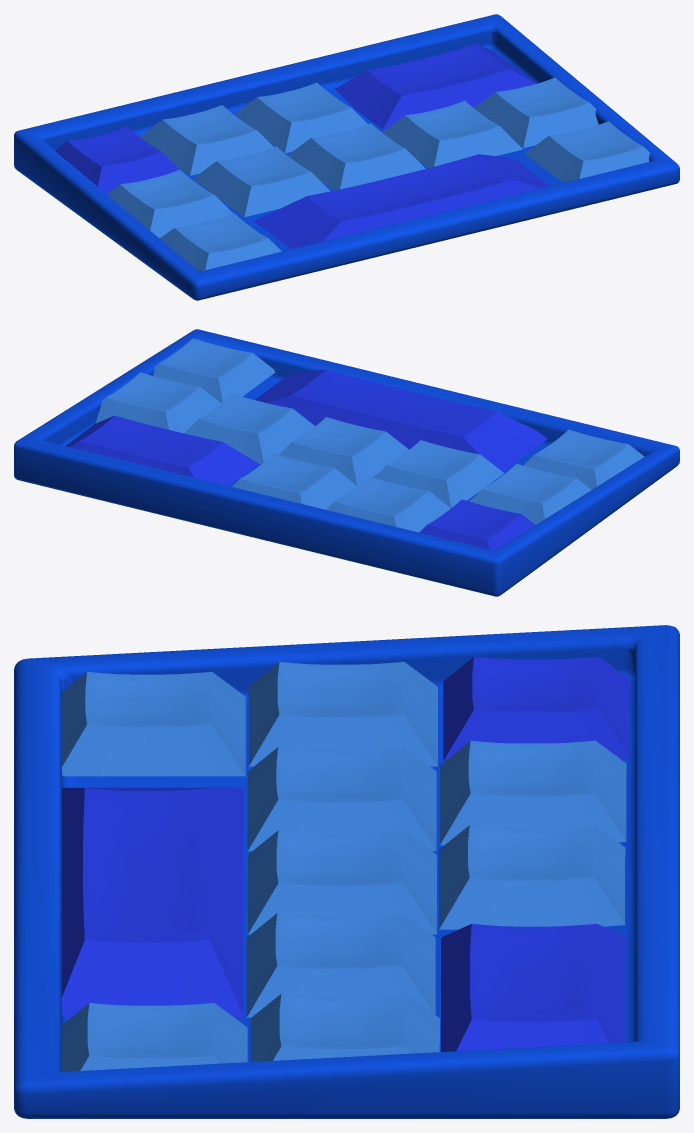
File: Puzzle1.fbx
3 views of the same model, one above another, from view 1: azimuth 30°, elevation 25°; view 2: azimuth 150°, elevation 25°; view 3: azimuth 270°, elevation 25° (orthographic). The views are drawn at different scales.
Parts seen in each view (by area): view 1: Plane, Plane.013, Plane.005, Plane.007, Plane.009, Plane.008, Plane.002, Plane.010, Plane.003, Plane.006, Plane.012, Plane.001 (+1 smaller); view 2: Plane, Plane.013, Plane.005, Plane.009, Plane.007, Plane.008, Plane.010, Plane.012, Plane.006, Plane.003, Plane.002, Plane.011 (+1 smaller); view 3: Plane, Plane.013, Plane.005, Plane.011, Plane.003, Plane.006, Plane.007, Plane.002, Plane.001, Plane.008, Plane.009, Plane.010 (+1 smaller).
Boxes of the visible parts, <box> form: Plane: <box>14,14,679,300</box>; Plane.013: <box>253,154,550,248</box>; Plane.005: <box>335,44,537,129</box>; Plane.007: <box>192,146,330,217</box>; Plane.009: <box>382,100,522,168</box>; Plane.008: <box>287,123,425,190</box>; Plane.002: <box>140,105,273,175</box>; Plane.010: <box>474,77,598,148</box>; Plane.003: <box>235,82,367,153</box>; Plane.006: <box>107,169,232,237</box>; Plane.012: <box>524,121,650,182</box>; Plane.001: <box>55,126,179,193</box>; Plane: <box>14,329,679,596</box>; Plane.013: <box>255,369,547,471</box>; Plane.005: <box>65,415,258,485</box>; Plane.009: <box>184,394,315,464</box>; Plane.007: <box>374,440,503,508</box>; Plane.008: <box>279,417,408,485</box>; Plane.010: <box>96,372,220,433</box>; Plane.012: <box>153,338,275,403</box>; Plane.006: <box>469,464,591,524</box>; Plane.003: <box>232,453,356,509</box>; Plane.002: <box>326,476,450,532</box>; Plane.011: <box>523,429,644,489</box>; Plane: <box>14,625,679,1118</box>; Plane.013: <box>61,787,243,1016</box>; Plane.005: <box>441,923,626,1051</box>; Plane.011: <box>61,671,245,776</box>; Plane.003: <box>439,825,625,929</box>; Plane.006: <box>248,662,437,766</box>; Plane.007: <box>247,747,436,851</box>; Plane.002: <box>440,740,626,845</box>; Plane.001: <box>443,656,630,761</box>; Plane.008: <box>247,830,436,934</box>; Plane.009: <box>246,913,435,1017</box>; Plane.010: <box>250,993,439,1061</box>.
Bounding box in the file's own units: 396 × 30.42 × 259.
